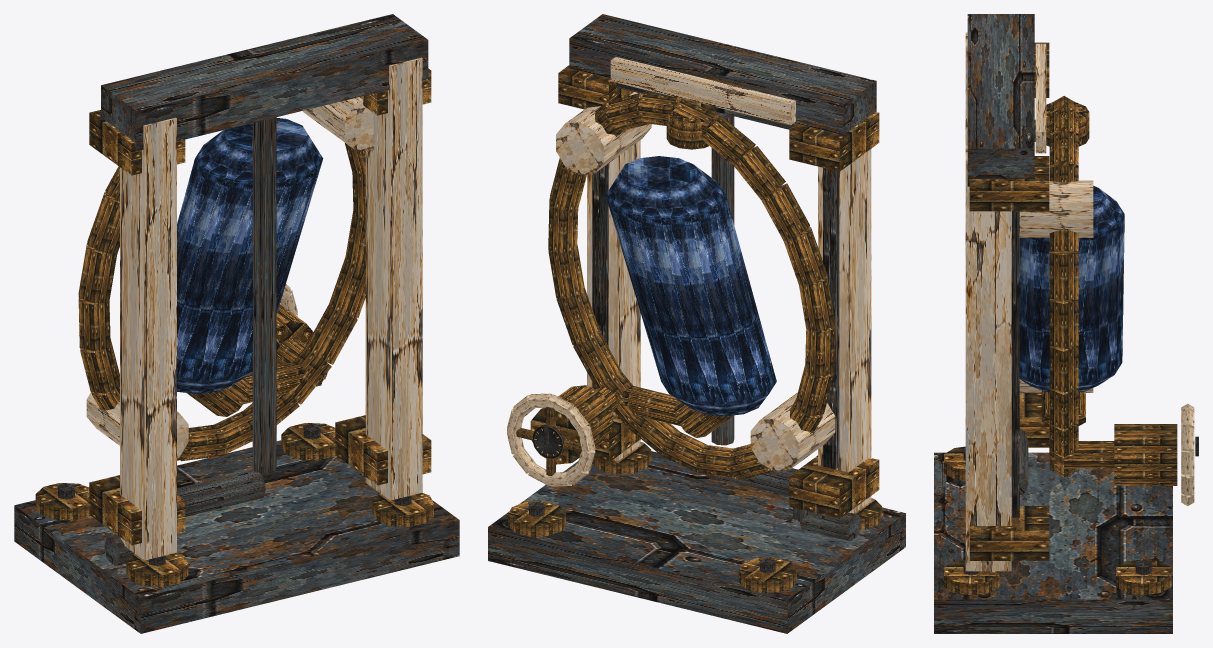
The model's file is canted-supported-orbit-core.gltf.
3 renders of one model, left to right at view 1: azimuth 30°, elevation 25°; view 2: azimuth 150°, elevation 25°; view 3: azimuth 270°, elevation 25°, orthographic. The views are drawn at different scales.
Visible parts, largest first — view 1: FloorPlinth, StockVolume, RearColumn_0.32, RearColumn_-0.32, Header, RearFeed_0, ColumnBracket_0.32_0.22, ColumnBracket_-0.32_0.22, FloorConduit_0, OrbitBearing1.05, ColumnBracket_-0.32_1.14, SupportedOrbit_12 (+18 smaller); view 2: FloorPlinth, StockVolume, Header, RearColumn_-0.32, RearColumn_0.32, HeaderIvoryInlay, ColumnBracket_-0.32_0.22, OrbitBearing0.39, ColumnInset_-0.32, OrbitBearing1.05, ColumnBracket_-0.32_1.14, ColumnInset_0.32 (+33 smaller); view 3: FloorPlinth, RearColumn_0.32, StockVolume, Header, ValveHousing, ColumnBracket_0.32_0.22, OrbitBearing1.05, ColumnBracket_0.32_1.14, ColumnInset_0.32, FloorFlange_0.32_-0.19, SupportedOrbit_02, SupportedOrbit_01 (+15 smaller).
Boxes of the visible parts, x1,y1,x2,y2 form: FloorPlinth: [14, 440, 459, 633]; StockVolume: [177, 118, 323, 393]; RearColumn_0.32: [365, 57, 422, 500]; RearColumn_-0.32: [120, 117, 176, 560]; Header: [101, 14, 428, 151]; RearFeed_0: [252, 117, 276, 473]; ColumnBracket_0.32_0.22: [335, 415, 431, 485]; ColumnBracket_-0.32_0.22: [89, 475, 185, 545]; FloorConduit_0: [177, 470, 265, 516]; OrbitBearing1.05: [303, 97, 373, 151]; ColumnBracket_-0.32_1.14: [89, 110, 185, 175]; SupportedOrbit_12: [78, 242, 117, 303]; FloorPlinth: [488, 451, 905, 633]; StockVolume: [605, 156, 776, 416]; Header: [569, 14, 876, 135]; RearColumn_-0.32: [818, 149, 871, 513]; RearColumn_0.32: [587, 140, 640, 461]; HeaderIvoryInlay: [610, 57, 795, 125]; ColumnBracket_-0.32_0.22: [789, 455, 879, 518]; OrbitBearing0.39: [750, 392, 835, 471]; ColumnInset_-0.32: [823, 168, 839, 469]; OrbitBearing1.05: [556, 92, 651, 174]; ColumnBracket_-0.32_1.14: [789, 112, 879, 171]; ColumnInset_0.32: [592, 163, 608, 389]; FloorPlinth: [934, 452, 1172, 633]; RearColumn_0.32: [965, 145, 1011, 571]; StockVolume: [1011, 185, 1124, 392]; Header: [967, 14, 1034, 186]; ValveHousing: [1114, 424, 1177, 485]; ColumnBracket_0.32_0.22: [969, 506, 1049, 560]; OrbitBearing1.05: [1011, 180, 1093, 237]; ColumnBracket_0.32_1.14: [969, 156, 1049, 211]; ColumnInset_0.32: [1012, 211, 1019, 517]; FloorFlange_0.32_-0.19: [1116, 559, 1171, 595]; SupportedOrbit_02: [1049, 252, 1078, 300]; SupportedOrbit_01: [1049, 299, 1078, 348].
Bounding box in the file's own units: 0.83 × 1.26 × 0.6315.
Materials: 6 (6 with a texture image).
